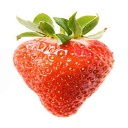strawberry: (13, 20, 116, 116)
